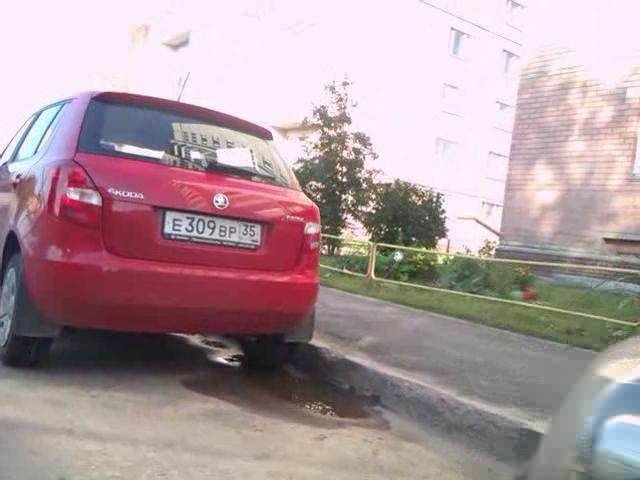car license plate: (162, 206, 262, 255)
